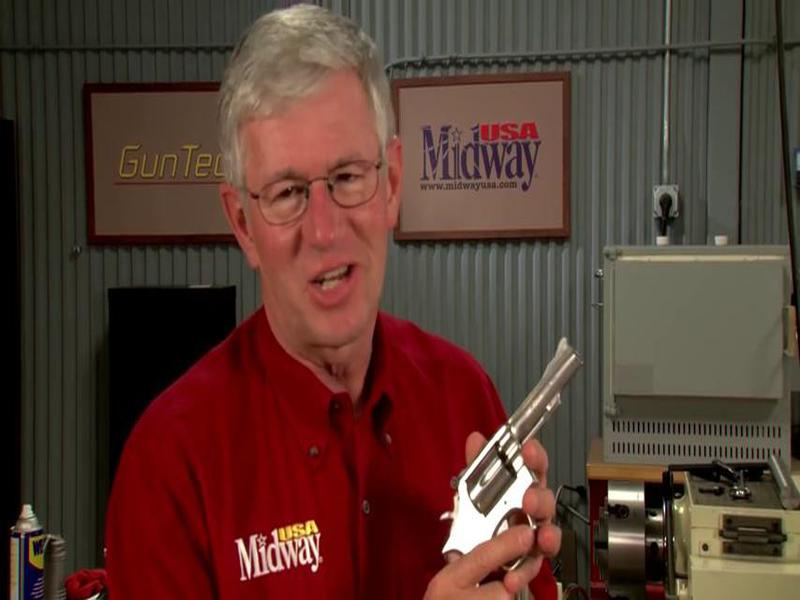Revolver: (454, 324, 584, 558)
